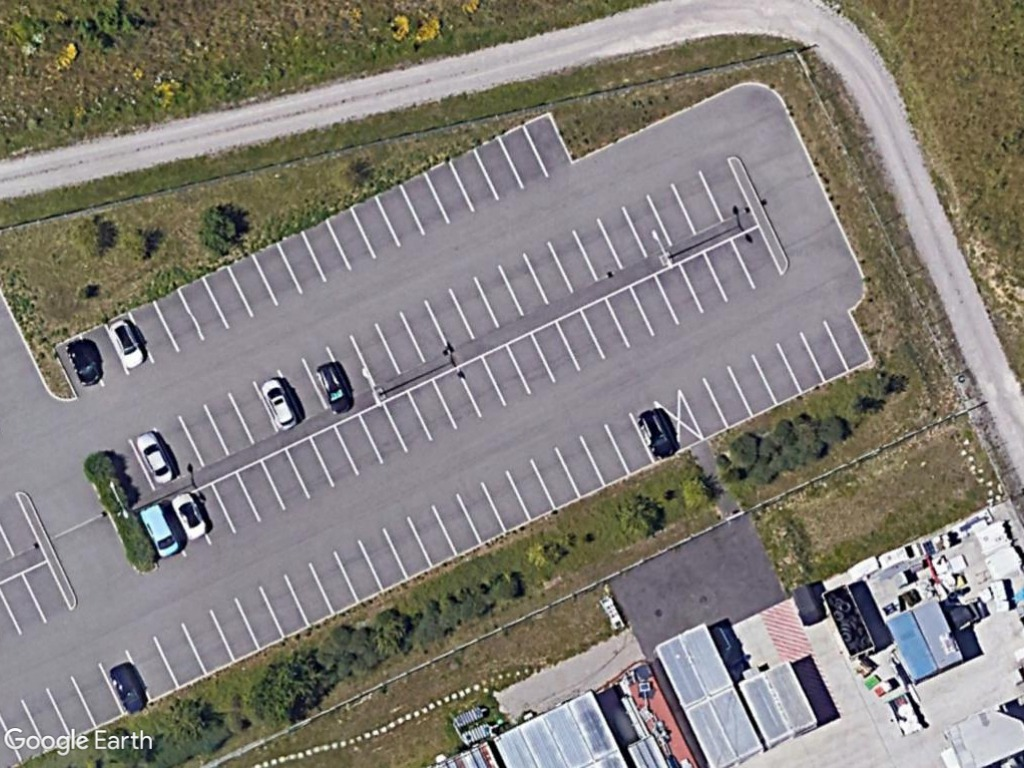car: (135, 432, 177, 488), (107, 317, 147, 372), (260, 377, 299, 432), (315, 360, 354, 415), (171, 489, 208, 541)
van: (137, 501, 179, 556)
